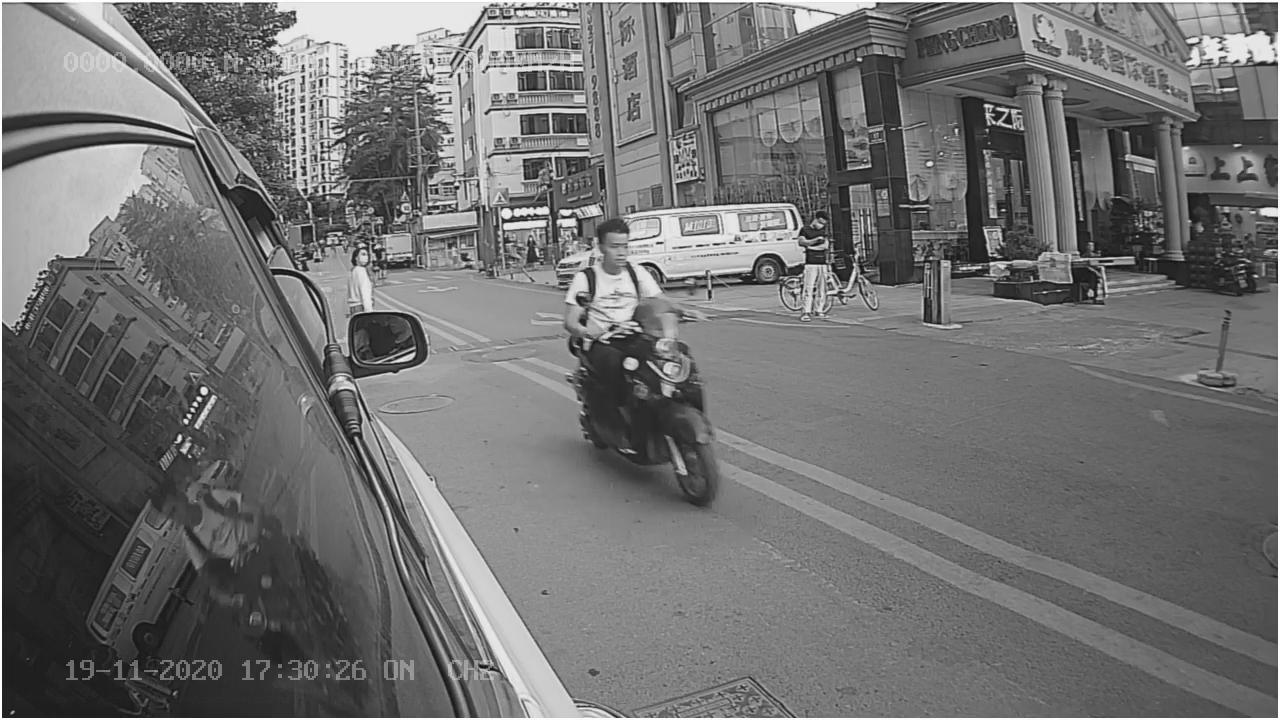person: (558, 220, 663, 315)
